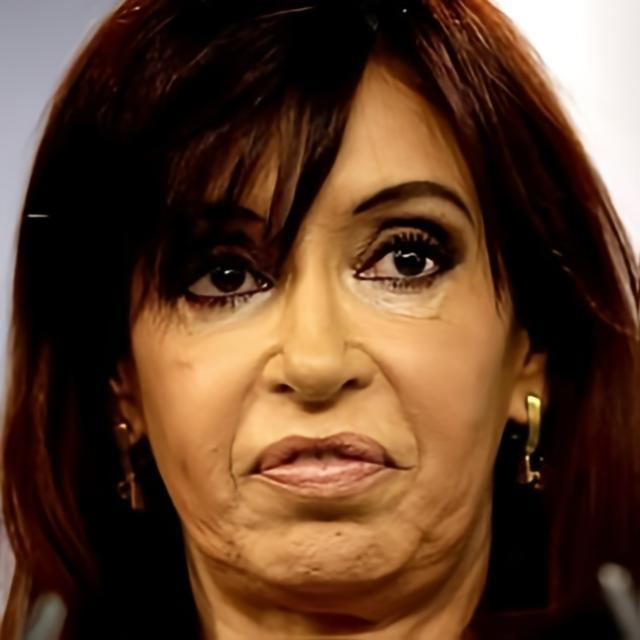disgust: (128, 36, 506, 591)
